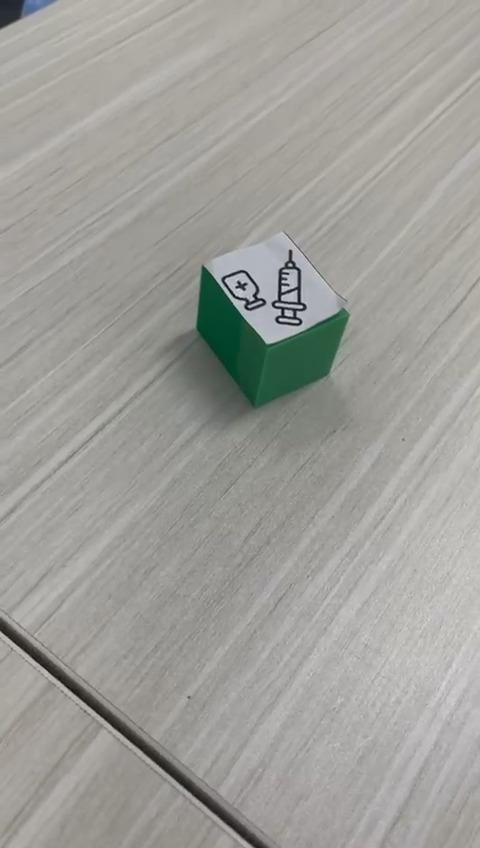antiseptic cream: (195, 229, 350, 407)
